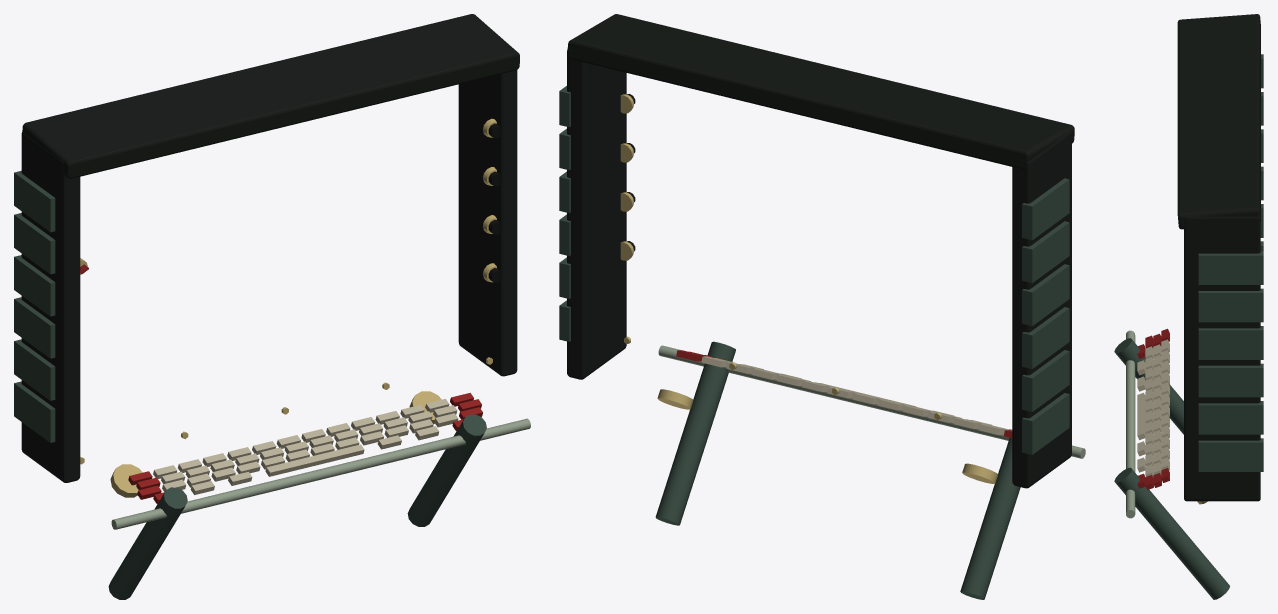
File: komrad_terminal_housing.glb
3 renders of one model, left to right at view 1: azimuth 30°, elevation 25°; view 2: azimuth 150°, elevation 25°; view 3: azimuth 270°, elevation 25°, orthographic. The views are drawn at different scales.
Parts seen in each view (by area): view 1: Komrad84MainframeTerminal; view 2: Komrad84MainframeTerminal; view 3: Komrad84MainframeTerminal.
Part boxes in pixels (box(x1,y1,x2,y2)): Komrad84MainframeTerminal: box(14, 14, 530, 599); Komrad84MainframeTerminal: box(559, 14, 1085, 599); Komrad84MainframeTerminal: box(1114, 14, 1263, 599).
Bounding box in the file's own units: 1.62 × 1.58 × 0.5067.
